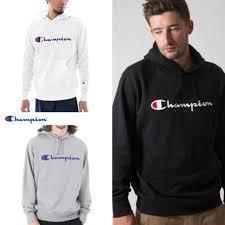sweater: (107, 46, 225, 217), (14, 127, 94, 223), (14, 13, 93, 105)
